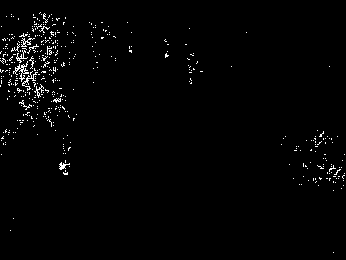person: (44, 98, 79, 175)
